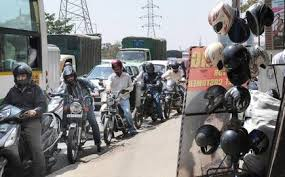helmet: (10, 61, 35, 89), (61, 64, 78, 83), (110, 59, 127, 75)
